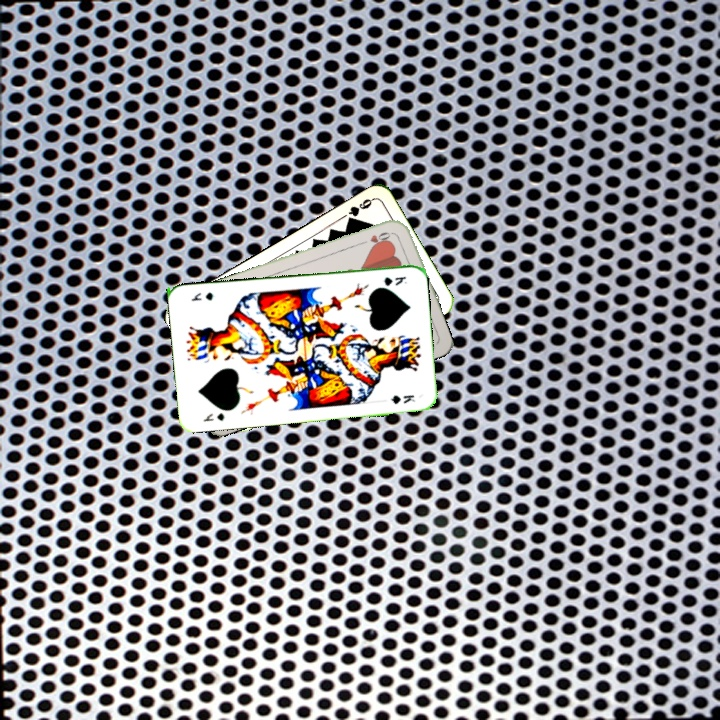G9: (343, 194, 376, 226)
GK: (380, 272, 410, 288), (199, 409, 227, 424)
HO: (357, 228, 397, 247)
